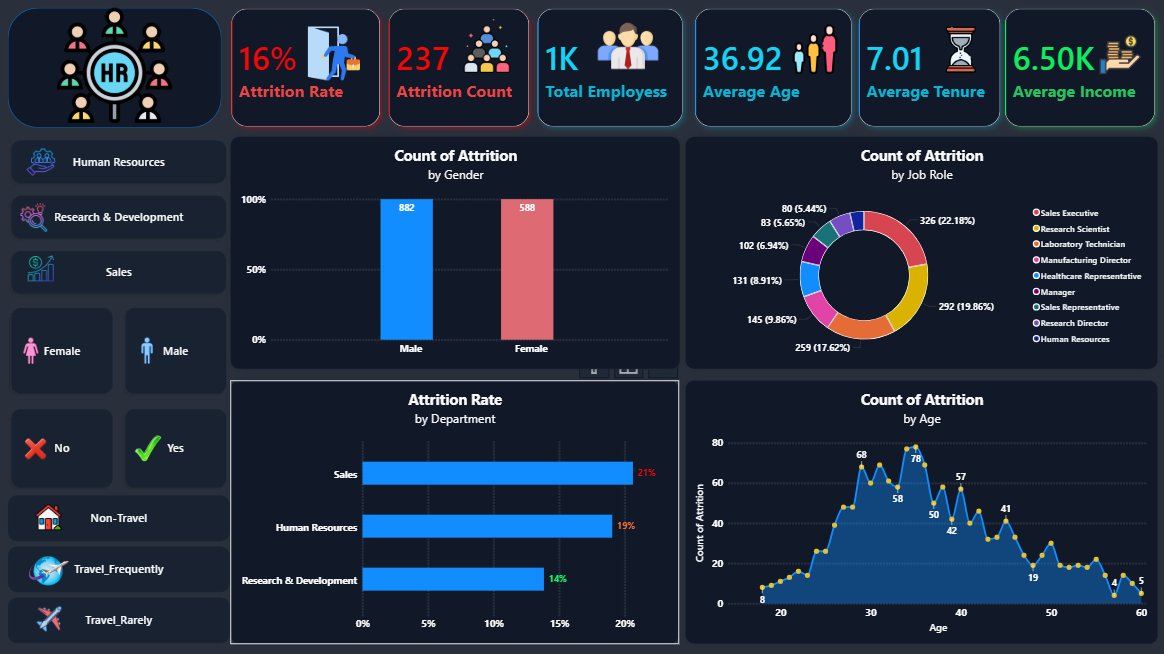

Layout of this report page (visuals, bound fields, positions):
{"tool":"powerbi","page":{"name":"Page 1","canvas":[1920,1080],"ordinal":0},"visuals":[{"type":"advancedSlicerVisual","fields":{"Values":["HR-Employee-Attrition.Department"]},"box":[14.4,226.4,366.4,265.5],"z":0},{"type":"advancedSlicerVisual","fields":{"Values":["HR-Employee-Attrition.Gender"]},"box":[14.4,502.2,366.4,154.4],"z":1000},{"type":"cardVisual","fields":{"Data":["HR-Employee-Attrition.Attrition Rate"]},"box":[366.4,0,277.9,226.4],"z":2000},{"type":"cardVisual","fields":{"Data":["HR-Employee-Attrition.Average Age"]},"box":[1130,0,290.2,226.4],"z":3000},{"type":"cardVisual","fields":{"Data":["HR-Employee-Attrition.Average Tenure"]},"box":[1399.7,0,265.5,226.4],"z":4000},{"type":"cardVisual","fields":{"Data":["HR-Employee-Attrition.Average Income"]},"box":[1640.5,0,279.9,226.4],"z":5000},{"type":"barChart","fields":{"Category":["HR-Employee-Attrition.Department"],"Y":["HR-Employee-Attrition.Attrition Rate"]},"box":[380.8,627.8,738.9,434.3],"z":6000},{"type":"donutChart","fields":{"Category":["HR-Employee-Attrition.Job Role"],"Y":["CountNonNull(HR-Employee-Attrition.Attrition)"]},"box":[1130,226.4,778,382.8],"z":7000},{"type":"hundredPercentStackedColumnChart","fields":{"Category":["HR-Employee-Attrition.Gender"],"Y":["CountNonNull(HR-Employee-Attrition.Attrition)"]},"box":[380.8,226.4,741,382.8],"z":8000},{"type":"lineChart","fields":{"Category":["HR-Employee-Attrition.Age"],"Y":["CountNonNull(HR-Employee-Attrition.Attrition)"]},"box":[1129.2,628,778.2,434.3],"z":9000},{"type":"cardVisual","fields":{"Data":["HR-Employee-Attrition.Total Employess"]},"box":[870.7,0,271.7,226.4],"z":10000},{"type":"cardVisual","fields":{"Data":["HR-Employee-Attrition.Attrition Count"]},"box":[625.7,0,263.5,226.4],"z":11000},{"type":"image","box":[754.6,32.6,95.9,88.7],"z":12000},{"type":"image","box":[506.3,45.3,90.6,88.5],"z":13000},{"type":"image","box":[982.6,25.3,108.6,105],"z":14000},{"type":"image","box":[1303,32.6,81.4,99.5],"z":15000},{"type":"image","box":[1801,57.6,90.6,67.9],"z":16000},{"type":"image","box":[1545.5,25.3,76,117.6],"z":17000},{"type":"image","box":[30.9,244.9,76.2,47.3],"z":18000},{"type":"image","box":[32.9,333.4,49.4,53.5],"z":19000},{"type":"image","box":[47.3,417.8,43.2,51.5],"z":20000},{"type":"image","box":[222.3,531,43.2,96.7],"z":21000},{"type":"image","box":[30.9,524.9,43.2,109.1],"z":22000},{"type":"advancedSlicerVisual","fields":{"Values":["HR-Employee-Attrition.Business Travel"]},"box":[14.4,817.2,366.4,244.9],"z":23000},{"type":"advancedSlicerVisual","fields":{"Values":["HR-Employee-Attrition.Over Time"]},"box":[14.4,669,366.4,142],"z":24000},{"type":"image","box":[216.1,712.2,55.6,55.6],"z":25000},{"type":"image","box":[32.9,714.2,55.6,53.5],"z":26000},{"type":"image","box":[49.4,905.7,65.9,72],"z":27000},{"type":"image","box":[49.4,998.3,65.9,45.3],"z":28000},{"type":"image","box":[53.5,831.6,55.6,43.2],"z":29000},{"type":"shape","box":[14.4,14.4,352,197.6],"z":30000},{"type":"image","box":[22.6,14.4,335.5,189.4],"z":30001}]}

Visuals, with their boxes in screenshot pixels (x1, y1, x2, y2), scaled from the page's 1920x1080 canvas onto the 1164x654 screenshot:
advancedSlicerVisual - HR-Employee-Attrition.Department: 9:137:231:298
advancedSlicerVisual - HR-Employee-Attrition.Gender: 9:304:231:398
cardVisual - HR-Employee-Attrition.Attrition Rate: 222:0:391:137
cardVisual - HR-Employee-Attrition.Average Age: 685:0:861:137
cardVisual - HR-Employee-Attrition.Average Tenure: 849:0:1010:137
cardVisual - HR-Employee-Attrition.Average Income: 995:0:1163:137
barChart - HR-Employee-Attrition.Department x HR-Employee-Attrition.Attrition Rate: 231:380:679:643
donutChart - HR-Employee-Attrition.Job Role x CountNonNull(HR-Employee-Attrition.Attrition): 685:137:1157:369
hundredPercentStackedColumnChart - HR-Employee-Attrition.Gender x CountNonNull(HR-Employee-Attrition.Attrition): 231:137:680:369
lineChart - HR-Employee-Attrition.Age x CountNonNull(HR-Employee-Attrition.Attrition): 685:380:1156:643
cardVisual - HR-Employee-Attrition.Total Employess: 528:0:693:137
cardVisual - HR-Employee-Attrition.Attrition Count: 379:0:539:137
image: 457:20:516:73
image: 307:27:362:81
image: 596:15:662:79
image: 790:20:839:80
image: 1092:35:1147:76
image: 937:15:983:87
image: 19:148:65:177
image: 20:202:50:234
image: 29:253:55:284
image: 135:322:161:380
image: 19:318:45:384
advancedSlicerVisual - HR-Employee-Attrition.Business Travel: 9:495:231:643
advancedSlicerVisual - HR-Employee-Attrition.Over Time: 9:405:231:491
image: 131:431:165:465
image: 20:432:54:465
image: 30:548:70:592
image: 30:605:70:632
image: 32:504:66:530
shape: 9:9:222:128
image: 14:9:217:123
